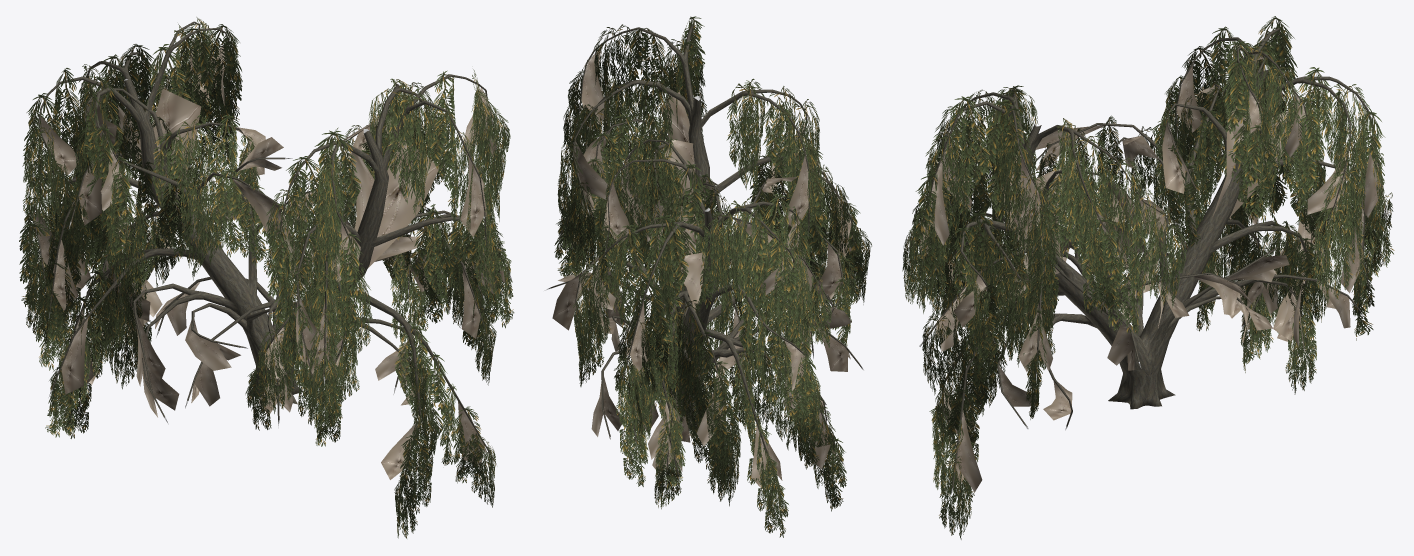
Rendered from MarshWillow_4.fbx.
The picture shows the model from 3 angles, left to right: view 1: azimuth 30°, elevation 25°; view 2: azimuth 150°, elevation 25°; view 3: azimuth 270°, elevation 25°; orthographic projection. The views are drawn at different scales.
Parts seen in each view (by area): view 1: MarshWillow_4; view 2: MarshWillow_4; view 3: MarshWillow_4.
Part boxes in pixels (box(x1,y1,x2,y2)): MarshWillow_4: box(19, 17, 514, 538); MarshWillow_4: box(544, 16, 871, 537); MarshWillow_4: box(902, 16, 1394, 539).
Bounding box in the file's own units: 38.09 × 39.94 × 41.87.
